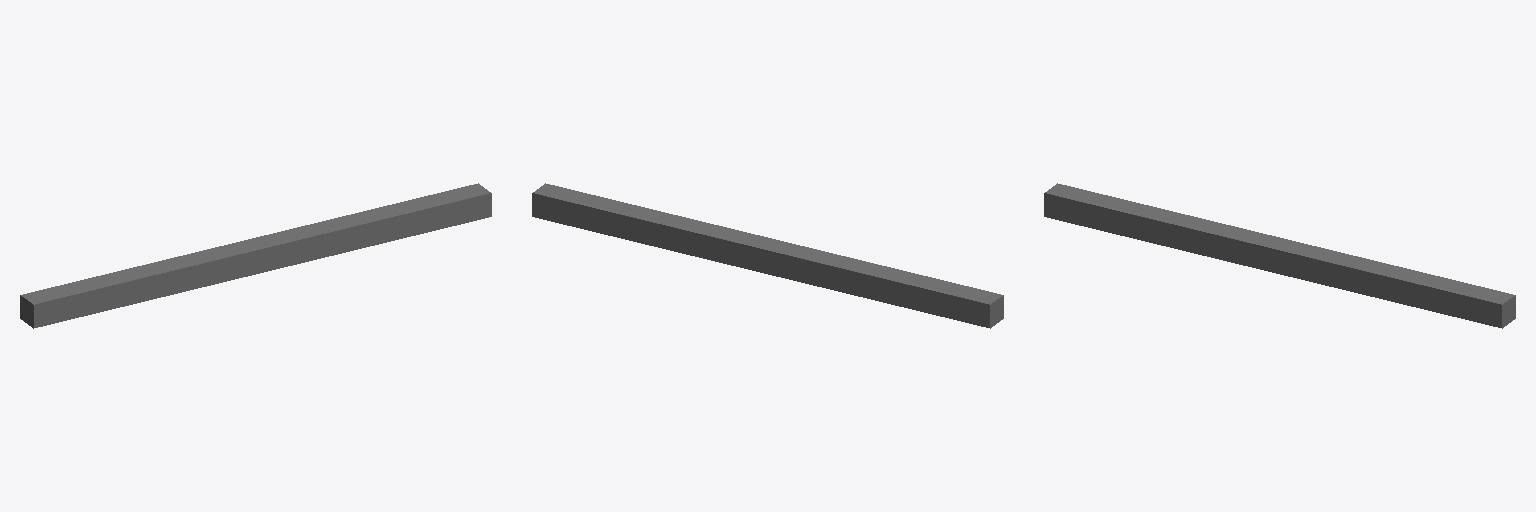
robot.urdf — box_Demo:
<?xml version="1.0"?>



<robot name="box_Demo">

<gazebo reference="box">
  <turnGravityOff>False</turnGravityOff>
	<material>Gazebo/Black</material>
    </gazebo>
<static>true</static>
  <link name="box">
    <origin rpy="0 0 -0.8" xyz="0 0.011 0.175"/>
    <visual>
	<material name="Cyan">
	<color rgba="0.5 0.5 0.5 1"/>
      </material>
      <geometry>
	<box size="0.1 0.005 0.005" />
      </geometry>
    <origin rpy="0 0 0" xyz="-0.00680 -0.00904 0.00152"/>
    </visual>

    <inertial>
      <origin xyz = "0 0 0" rpy="0 0 0"/>
      <mass value = "1"/>
      <inertia
          ixx = "0.000004"
          ixy = "0"
          ixz = "0"
          iyy = "0"
          iyz = "0"
          izz = "0"
          />
    </inertial>

    <collision>
      <geometry>
        <box size="0.1 0.005 0.005" />
      </geometry>

    <origin rpy="0 0 0" xyz="-0.00680 -0.00904 0.00152"/>
    </collision>

  </link>
</robot>

--- What the picture shows (computed from the rendered views, not written in the file) ---
The picture shows the robot from 3 angles, left to right: view 1: azimuth 30°, elevation 25°; view 2: azimuth 150°, elevation 25°; view 3: azimuth 330°, elevation 25°; orthographic projection.
Robot: box_Demo — 1 links, 0 joints (none); root link box; default pose: all joints at 0.
Links seen in each view (by area): view 1: box; view 2: box; view 3: box.
Link boxes in pixels (x1,y1,x2,y2): box: (20,183,491,328); box: (532,183,1003,328); box: (1044,183,1515,328).
Bounding box of the posed robot: 0.1 × 0.005 × 0.005 m (x, y, z).
Geometry: primitives only (box / cylinder / sphere), no mesh files.